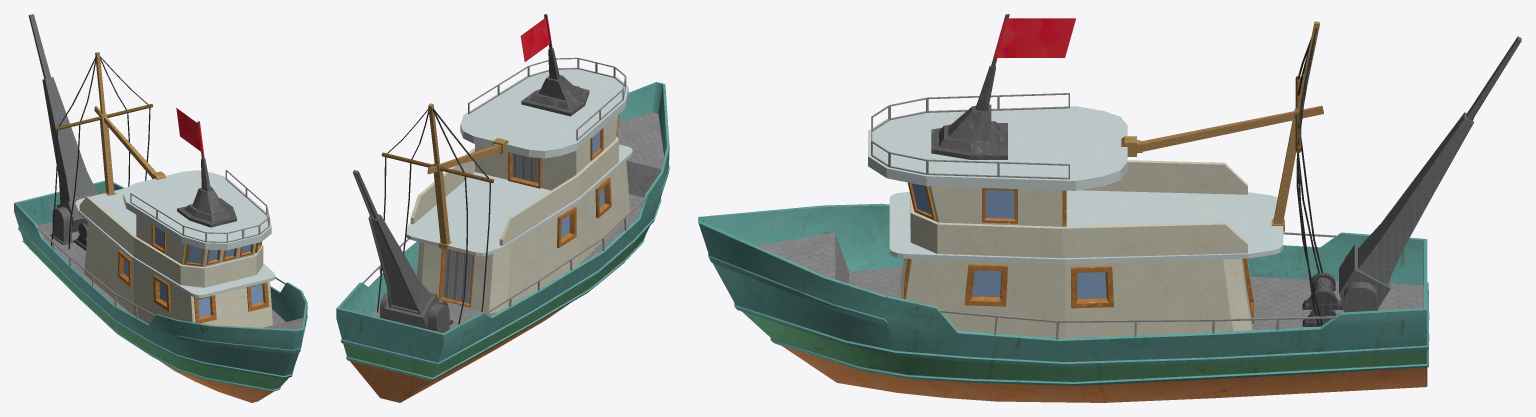
File: Ship3.fbx
The picture shows the model from 3 angles, left to right: view 1: azimuth 30°, elevation 25°; view 2: azimuth 150°, elevation 25°; view 3: azimuth 270°, elevation 25°; orthographic projection. The views are drawn at different scales.
Visible parts, largest first — view 1: Ship3; view 2: Ship3; view 3: Ship3.
Part boxes in pixels (x1,y1,x2,y2): Ship3: (14, 14, 307, 402); Ship3: (336, 14, 669, 402); Ship3: (698, 14, 1521, 402).
Size of the model in its own units: 627 by 1051 by 2144.
3 materials, 3 textured.
